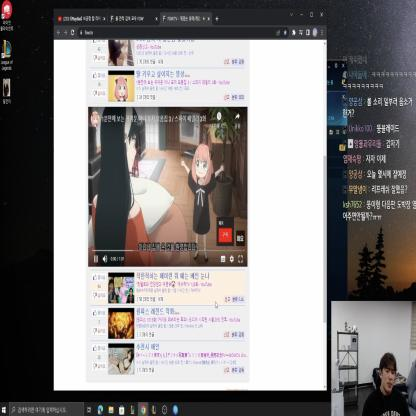streamer: (362, 352, 410, 416)
